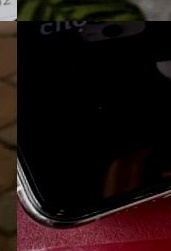scratch: (36, 206, 66, 237), (129, 189, 153, 204)
